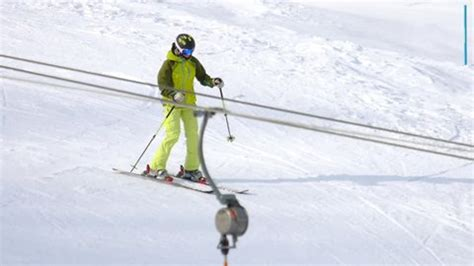skier: (108, 19, 250, 201)
